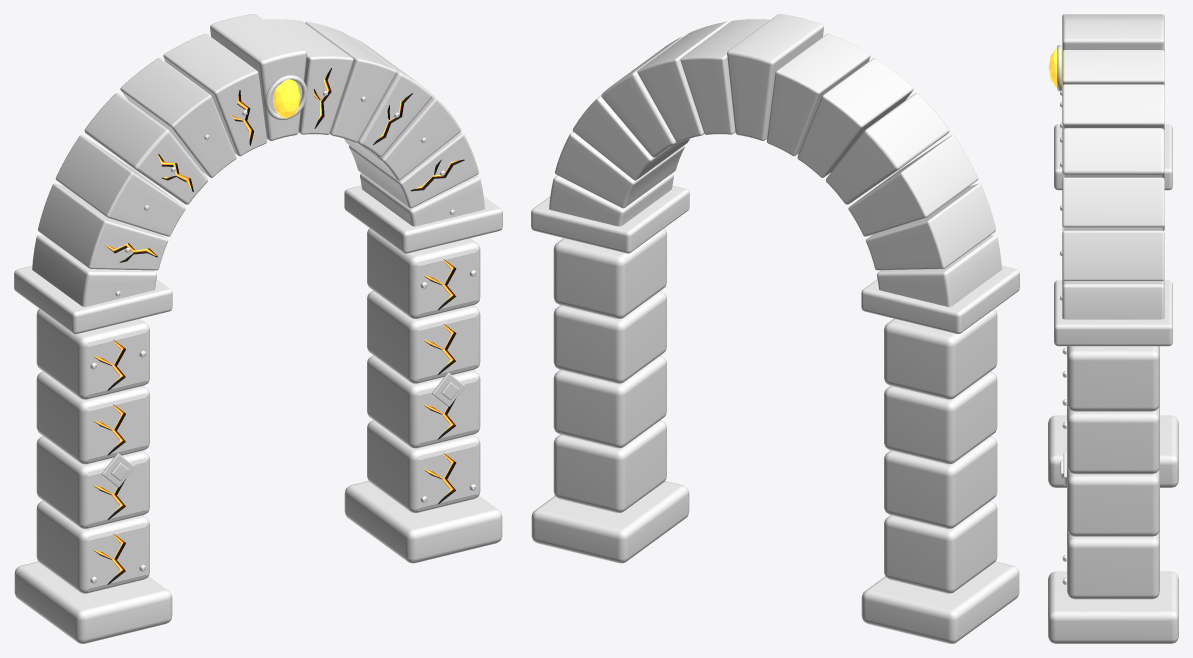
The model's file is AS_13_Gate_Ember.glb.
The picture shows the model from 3 angles, left to right: view 1: azimuth 30°, elevation 25°; view 2: azimuth 150°, elevation 25°; view 3: azimuth 270°, elevation 25°; orthographic projection. The views are drawn at different scales.
Visible parts, largest first — view 1: AS_13_Gate_Ember__foot.001, AS_13_Gate_Ember__foot, AS_13_Gate_Ember__jamb.003, AS_13_Gate_Ember__jamb.007, AS_13_Gate_Ember__jamb, AS_13_Gate_Ember__jamb.004, AS_13_Gate_Ember__jamb.001, AS_13_Gate_Ember__jamb.005, AS_13_Gate_Ember__jamb.002, AS_13_Gate_Ember__jamb.006, AS_13_Gate_Ember__radial voussoir 09, AS_13_Gate_Ember__radial voussoir 11 (+14 smaller); view 2: AS_13_Gate_Ember__foot.001, AS_13_Gate_Ember__foot, AS_13_Gate_Ember__jamb.004, AS_13_Gate_Ember__jamb, AS_13_Gate_Ember__jamb.001, AS_13_Gate_Ember__jamb.006, AS_13_Gate_Ember__jamb.003, AS_13_Gate_Ember__jamb.005, AS_13_Gate_Ember__jamb.002, AS_13_Gate_Ember__jamb.007, AS_13_Gate_Ember__radial voussoir 09, AS_13_Gate_Ember__radial voussoir 12 (+13 smaller); view 3: AS_13_Gate_Ember__foot, AS_13_Gate_Ember__jamb, AS_13_Gate_Ember__jamb.005, AS_13_Gate_Ember__jamb.007, AS_13_Gate_Ember__jamb.006, AS_13_Gate_Ember__radial voussoir 03, AS_13_Gate_Ember__radial voussoir 02, AS_13_Gate_Ember__radial voussoir 04, AS_13_Gate_Ember__radial voussoir 05, AS_13_Gate_Ember__radial voussoir 01, AS_13_Gate_Ember__spring cap, AS_13_Gate_Ember__radial voussoir 06 (+6 smaller).
Part boxes in pixels (x1,y1,x2,y2): AS_13_Gate_Ember__foot.001: (14, 561, 172, 643); AS_13_Gate_Ember__foot: (344, 481, 502, 563); AS_13_Gate_Ember__jamb.003: (36, 371, 149, 464); AS_13_Gate_Ember__jamb.007: (367, 291, 480, 383); AS_13_Gate_Ember__jamb: (367, 228, 480, 318); AS_13_Gate_Ember__jamb.004: (36, 309, 149, 399); AS_13_Gate_Ember__jamb.001: (36, 501, 149, 593); AS_13_Gate_Ember__jamb.005: (367, 420, 480, 512); AS_13_Gate_Ember__jamb.002: (36, 436, 149, 528); AS_13_Gate_Ember__jamb.006: (367, 355, 480, 448); AS_13_Gate_Ember__radial voussoir 09: (120, 58, 236, 177); AS_13_Gate_Ember__radial voussoir 11: (55, 135, 185, 236); AS_13_Gate_Ember__foot.001: (861, 561, 1019, 643); AS_13_Gate_Ember__foot: (531, 481, 689, 563); AS_13_Gate_Ember__jamb.004: (884, 309, 997, 399); AS_13_Gate_Ember__jamb: (553, 228, 666, 318); AS_13_Gate_Ember__jamb.001: (884, 501, 997, 593); AS_13_Gate_Ember__jamb.006: (553, 355, 666, 448); AS_13_Gate_Ember__jamb.003: (884, 371, 997, 464); AS_13_Gate_Ember__jamb.005: (553, 420, 666, 512); AS_13_Gate_Ember__jamb.002: (884, 436, 997, 528); AS_13_Gate_Ember__jamb.007: (553, 291, 666, 383); AS_13_Gate_Ember__radial voussoir 09: (797, 58, 913, 177); AS_13_Gate_Ember__radial voussoir 12: (865, 183, 995, 270); AS_13_Gate_Ember__foot: (1048, 571, 1178, 643); AS_13_Gate_Ember__jamb: (1067, 346, 1159, 411); AS_13_Gate_Ember__jamb.005: (1067, 529, 1159, 599); AS_13_Gate_Ember__jamb.007: (1067, 404, 1159, 474); AS_13_Gate_Ember__jamb.006: (1067, 467, 1159, 536); AS_13_Gate_Ember__radial voussoir 03: (1062, 177, 1164, 230); AS_13_Gate_Ember__radial voussoir 02: (1062, 230, 1164, 281); AS_13_Gate_Ember__radial voussoir 04: (1062, 128, 1164, 178); AS_13_Gate_Ember__radial voussoir 05: (1062, 84, 1164, 130); AS_13_Gate_Ember__radial voussoir 01: (1062, 279, 1164, 319); AS_13_Gate_Ember__spring cap: (1054, 280, 1172, 346); AS_13_Gate_Ember__radial voussoir 06: (1062, 50, 1164, 85).
Size of the model in its own units: 4.04 by 4.8 by 1.1.
